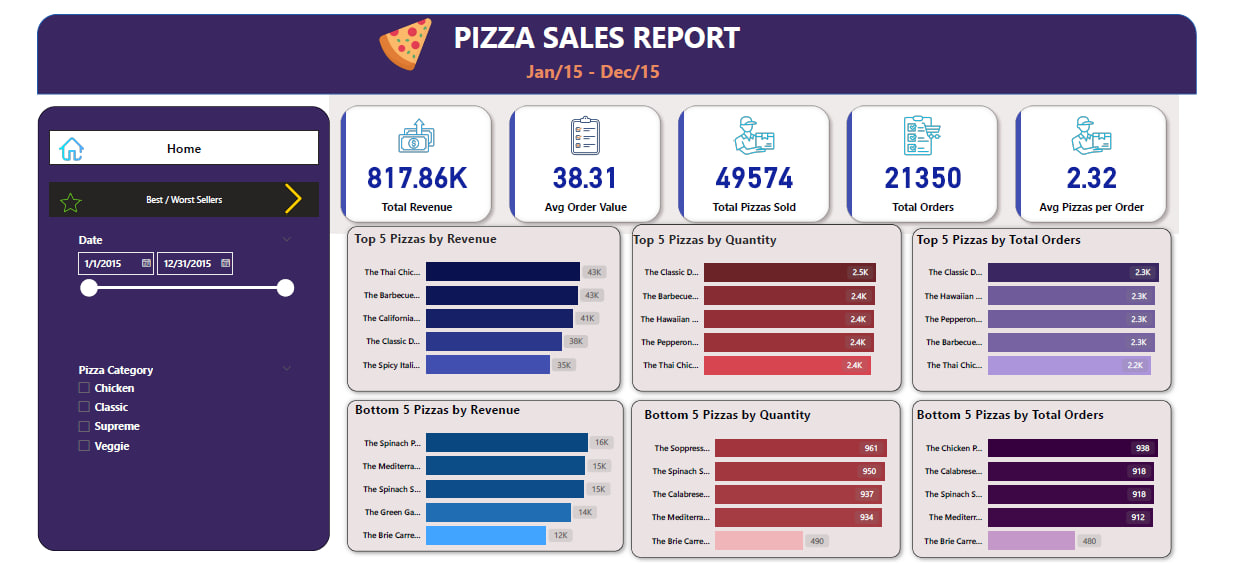

This screenshot's page, from the dashboard's own definition file:
{"tool":"powerbi","page":{"name":"Best / Worst Sellers","canvas":[1800,820],"ordinal":1},"visuals":[{"type":"cardVisual","fields":{"Data":["Pizza_Sales.Total Revenue","Pizza_Sales.Avg Order Value","Pizza_Sales.Total Pizzas Sold","Pizza_Sales.Total Orders","Pizza_Sales.Avg Pizzas per Order"]},"box":[470,120,1268,208],"z":0},{"type":"shape","box":[32.9,0,1732.3,120],"z":1000},{"type":"textbox","box":[629,0,480,75.5],"z":2000},{"type":"textbox","box":[758.7,61.9,220.6,58.1],"z":3000},{"type":"image","box":[470.3,0,226.5,91],"z":4000},{"type":"shape","box":[34,138,436,664],"z":9000},{"type":"shape","box":[488.3,568.3,430,243.3],"z":10000},{"type":"shape","box":[913.3,568.3,418.3,251.7],"z":11000},{"type":"shape","box":[1331.7,568.3,405,251.7],"z":12000},{"type":"slicer","fields":{"Values":["Pizza_Sales.pizza_category"]},"box":[81.7,515,343.3,161.7],"z":18000},{"type":"slicer","fields":{"Values":["Pizza_Sales.order_date"]},"box":[81.7,321.7,343.3,168.3],"z":19000},{"type":"pageNavigator","box":[52.3,251.6,400.6,50.3],"z":19001},{"type":"pageNavigator","box":[52.3,174.2,400.6,50.3],"z":19002},{"type":"image","box":[361.9,247.7,108.4,56.1],"z":19003},{"type":"image","box":[57,179,54,45],"z":19004},{"type":"image","box":[63,261,41,41],"z":19005},{"type":"shape","box":[1331.7,311.7,405,261.7],"z":19006},{"type":"shape","box":[913.3,305,420,268.3],"z":19007},{"type":"shape","box":[488.3,308.3,425,265],"z":19008},{"type":"barChart","title":"Top 5 Pizzas by Revenue","fields":{"Category":["Pizza_Sales.pizza_name"],"Y":["Pizza_Sales.Total Revenue"]},"box":[501.7,321.7,396.7,235],"z":19009},{"type":"barChart","title":"Bottom 5 Pizzas by Revenue","fields":{"Category":["Pizza_Sales.pizza_name"],"Y":["Pizza_Sales.Total Revenue"]},"box":[503.3,576.7,396.7,235],"z":19010},{"type":"barChart","title":"Top 5 Pizzas by Quantity","fields":{"Category":["Pizza_Sales.pizza_name"],"Y":["Pizza_Sales.Total Pizzas Sold"]},"box":[918.3,323.3,396.7,235],"z":19011},{"type":"barChart","title":"Bottom 5 Pizzas by Quantity","fields":{"Category":["Pizza_Sales.pizza_name"],"Y":["Pizza_Sales.Total Pizzas Sold"]},"box":[935,585,396.7,235],"z":19012},{"type":"barChart","title":"Top 5 Pizzas by Total Orders","fields":{"Category":["Pizza_Sales.pizza_name"],"Y":["Pizza_Sales.Total Orders"]},"box":[1341.7,323.3,396.7,235],"z":19013},{"type":"barChart","title":"Bottom 5 Pizzas by Total Orders","fields":{"Category":["Pizza_Sales.pizza_name"],"Y":["Pizza_Sales.Total Orders"]},"box":[1341.7,585,396.7,235],"z":19014}]}

Visuals, with their boxes in screenshot pixels (x1, y1, x2, y2), scaled from the page's 1800x820 canvas onto the 1233x579 screenshot:
cardVisual - Pizza_Sales.Total Revenue x Pizza_Sales.Avg Order Value: (x1=322, y1=85, x2=1191, y2=232)
shape: (x1=23, y1=0, x2=1209, y2=85)
textbox: (x1=431, y1=0, x2=760, y2=53)
textbox: (x1=520, y1=44, x2=671, y2=85)
image: (x1=322, y1=0, x2=477, y2=64)
shape: (x1=23, y1=97, x2=322, y2=566)
shape: (x1=334, y1=401, x2=629, y2=573)
shape: (x1=626, y1=401, x2=912, y2=578)
shape: (x1=912, y1=401, x2=1190, y2=578)
slicer - Pizza_Sales.pizza_category: (x1=56, y1=364, x2=291, y2=478)
slicer - Pizza_Sales.order_date: (x1=56, y1=227, x2=291, y2=346)
pageNavigator: (x1=36, y1=178, x2=310, y2=213)
pageNavigator: (x1=36, y1=123, x2=310, y2=159)
image: (x1=248, y1=175, x2=322, y2=215)
image: (x1=39, y1=126, x2=76, y2=158)
image: (x1=43, y1=184, x2=71, y2=213)
shape: (x1=912, y1=220, x2=1190, y2=405)
shape: (x1=626, y1=215, x2=913, y2=405)
shape: (x1=334, y1=218, x2=626, y2=405)
"Top 5 Pizzas by Revenue" barChart: (x1=344, y1=227, x2=615, y2=393)
"Bottom 5 Pizzas by Revenue" barChart: (x1=345, y1=407, x2=616, y2=573)
"Top 5 Pizzas by Quantity" barChart: (x1=629, y1=228, x2=901, y2=394)
"Bottom 5 Pizzas by Quantity" barChart: (x1=640, y1=413, x2=912, y2=578)
"Top 5 Pizzas by Total Orders" barChart: (x1=919, y1=228, x2=1191, y2=394)
"Bottom 5 Pizzas by Total Orders" barChart: (x1=919, y1=413, x2=1191, y2=578)
